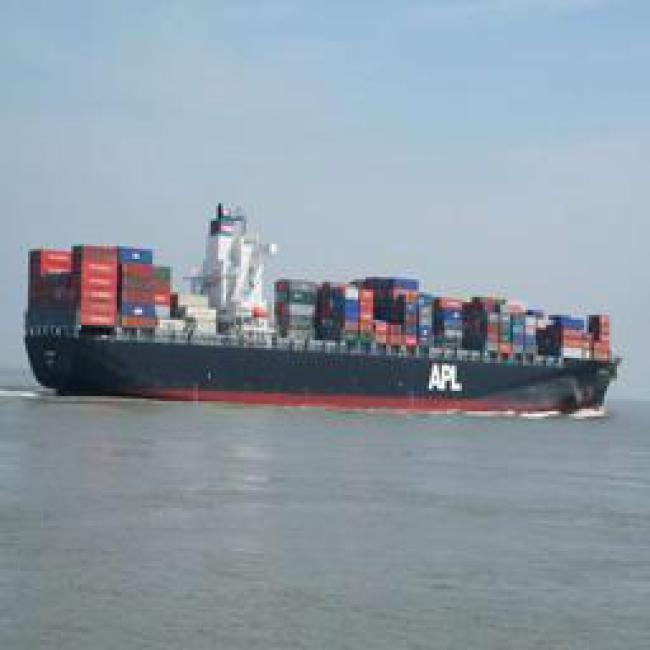Ship: (14, 222, 624, 428)
